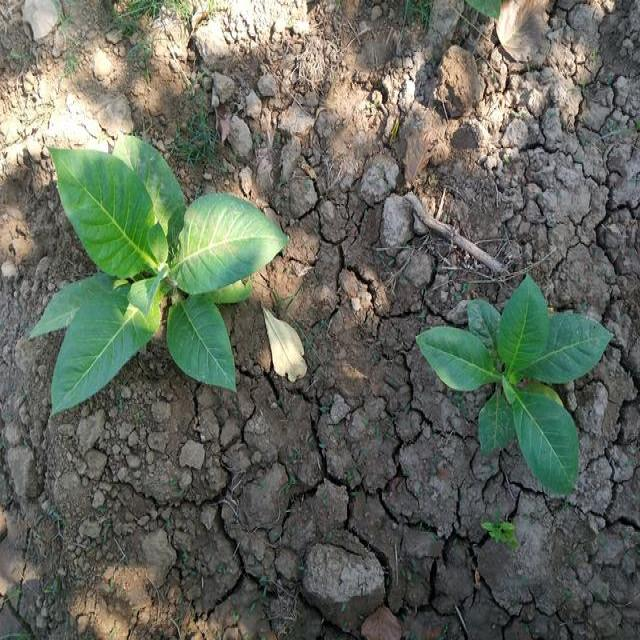crop: (42, 132, 278, 408), (424, 285, 616, 486)
